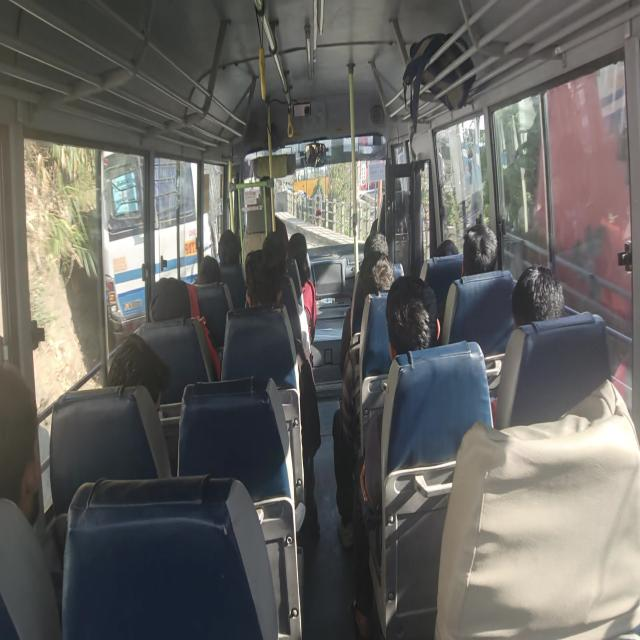person: (434, 377, 639, 638), (352, 274, 441, 637), (244, 248, 321, 536), (333, 250, 395, 548), (0, 361, 62, 638), (489, 264, 565, 424), (437, 223, 498, 343), (340, 230, 390, 376), (0, 361, 42, 528), (107, 332, 170, 411), (511, 263, 565, 329), (287, 232, 318, 342), (217, 229, 246, 309), (461, 223, 498, 276), (218, 229, 241, 266), (194, 255, 221, 285), (363, 231, 389, 257), (434, 239, 459, 256)
